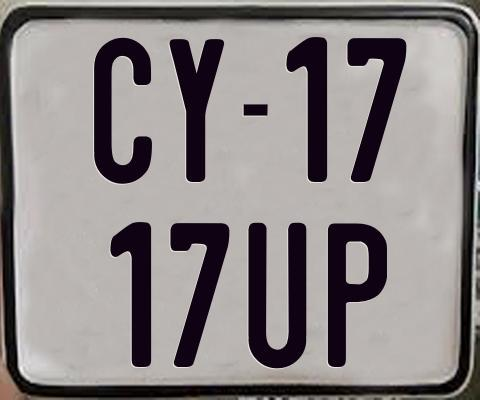1: (285, 35, 331, 180), (109, 219, 154, 365)
7: (344, 36, 403, 186), (170, 220, 230, 365)
C: (93, 35, 157, 183)
P: (325, 223, 389, 370)
U: (247, 223, 312, 368)
Y: (167, 39, 228, 188)
